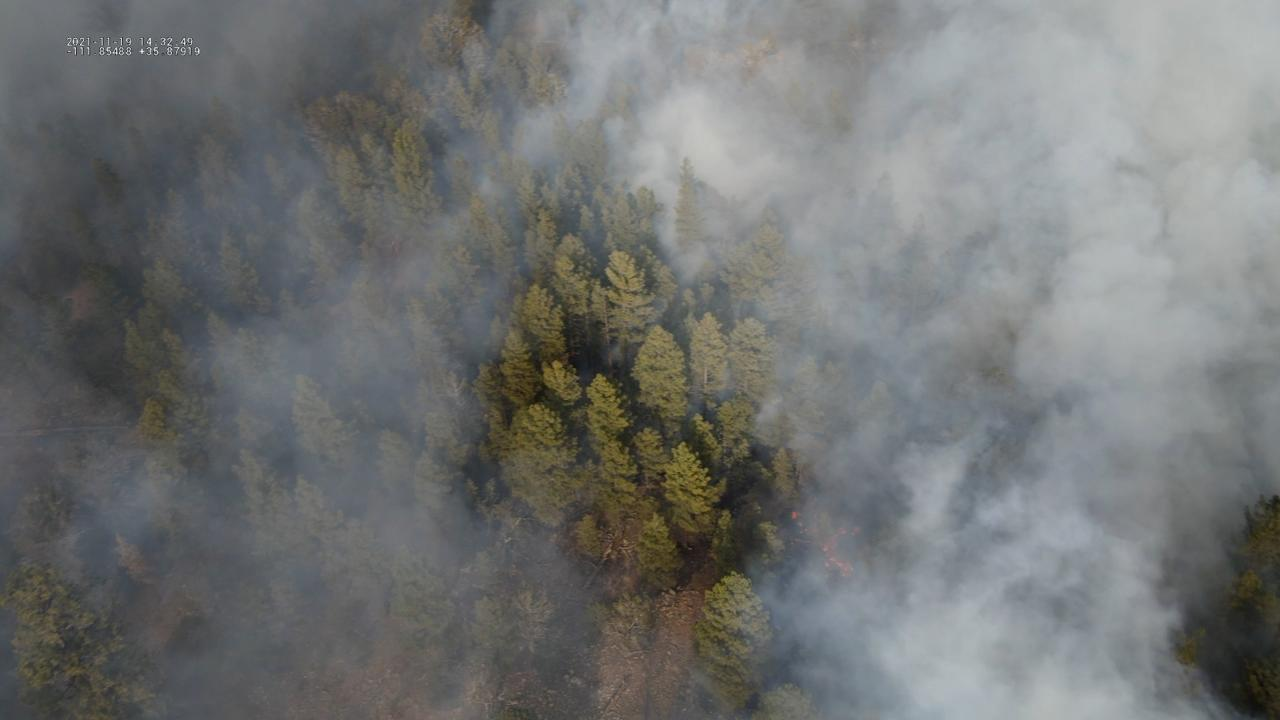fire: (790, 509, 861, 580)
smoke: (0, 0, 1280, 720)
